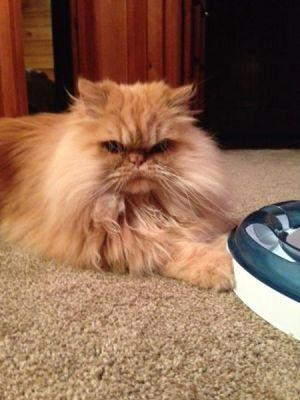persian: (66, 64, 211, 211)
